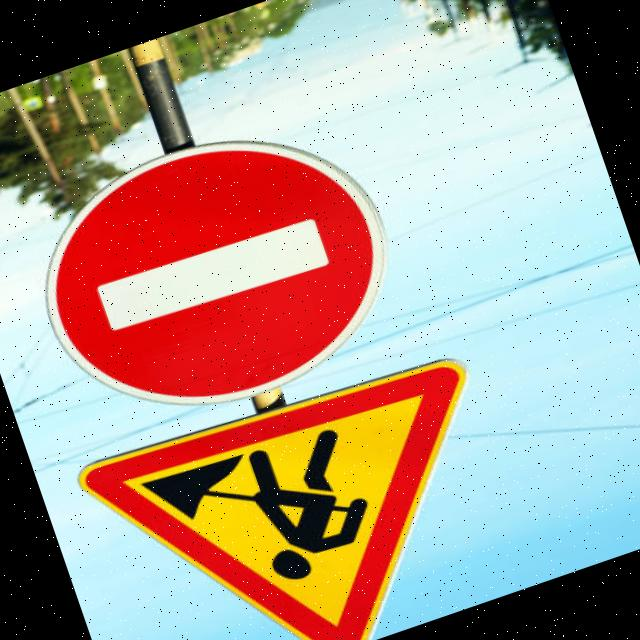do_not_enter: (0, 81, 442, 461)
road_work: (57, 335, 533, 640)
